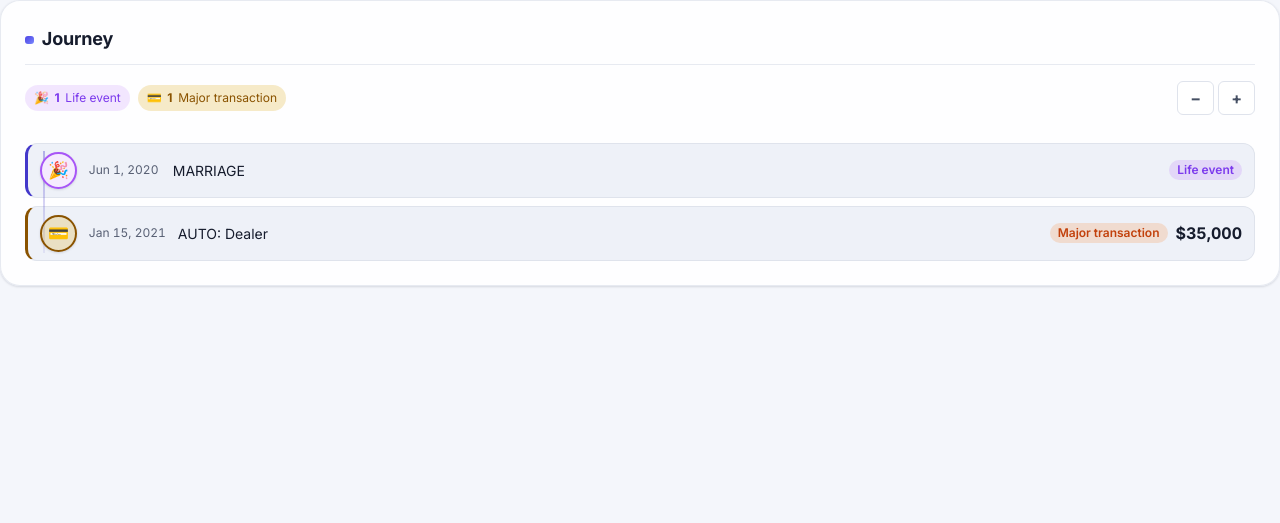
it: JourneyWidget › renders a zoomable timeline and opens a milestone detail on selection
Expected: the button named "zoom in" is shown, [1218,81,1255,115]
Click the button "🎉 Jun 1, 2020 MARRIAGE Life event" at (58, 170), box [25,143,1255,198]
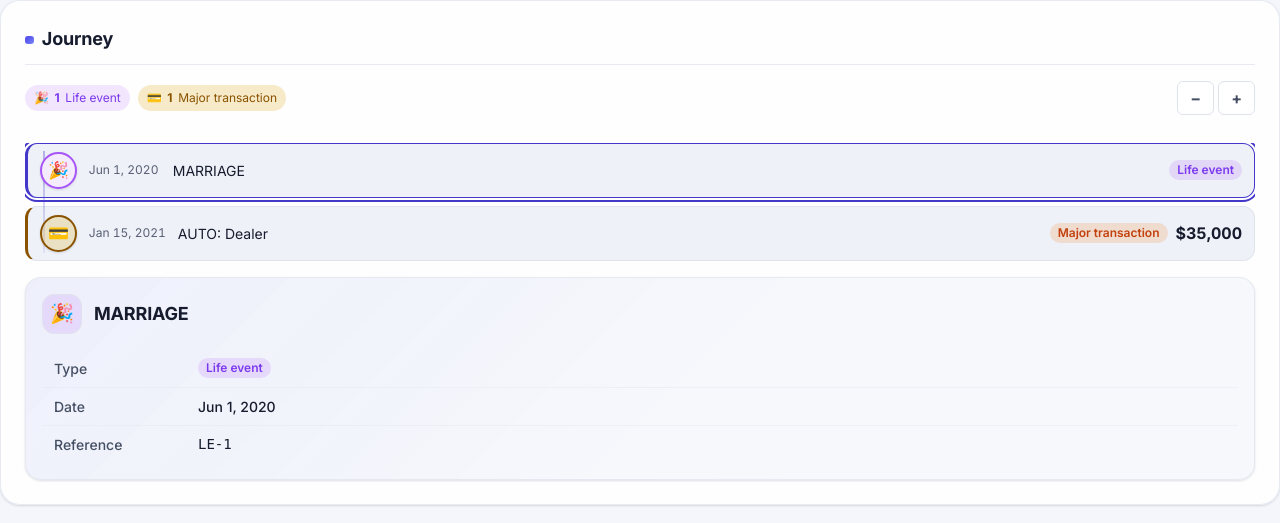
Expected: the text "LE-1" is shown, [198,436,232,452]
